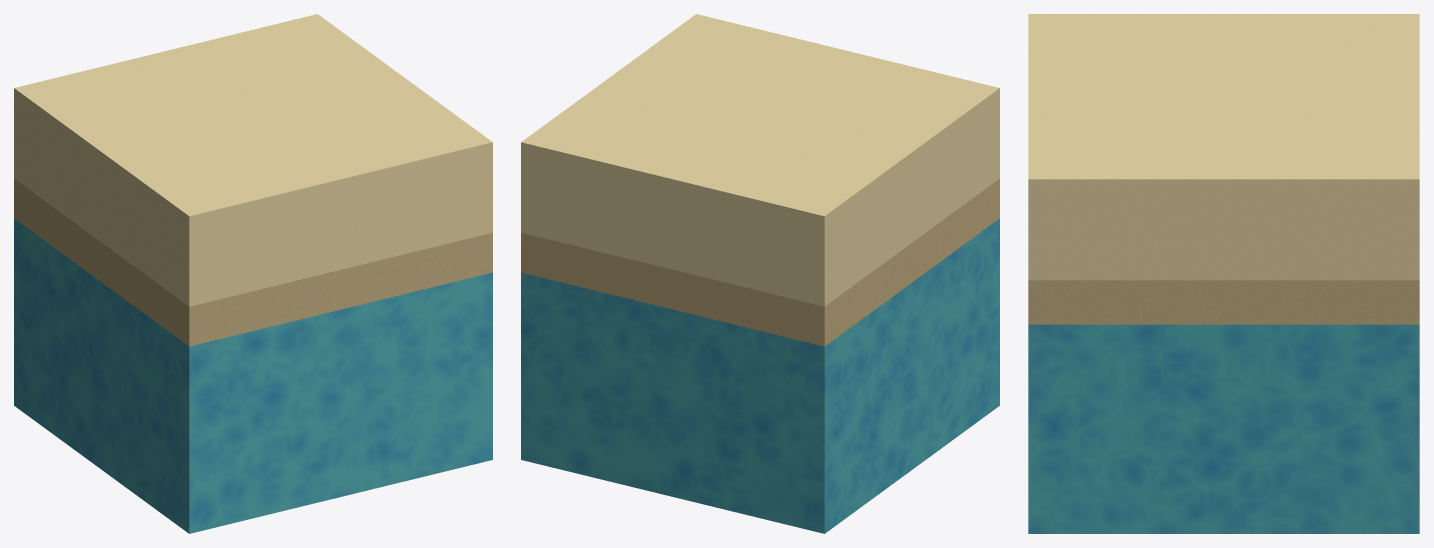
File: Sand.fbx
The picture shows the model from 3 angles, left to right: view 1: azimuth 30°, elevation 25°; view 2: azimuth 150°, elevation 25°; view 3: azimuth 270°, elevation 25°; orthographic projection. The views are drawn at different scales.
Parts seen in each view (by area): view 1: Sand Ocean; view 2: Sand Ocean; view 3: Sand Ocean.
Boxes of the visible parts, x1=… form: Sand Ocean: x1=14, y1=14, x2=492, y2=533; Sand Ocean: x1=521, y1=14, x2=999, y2=533; Sand Ocean: x1=1028, y1=14, x2=1419, y2=533.
Size of the model in its own units: 200 by 200 by 200.
3 materials, 3 textured.
